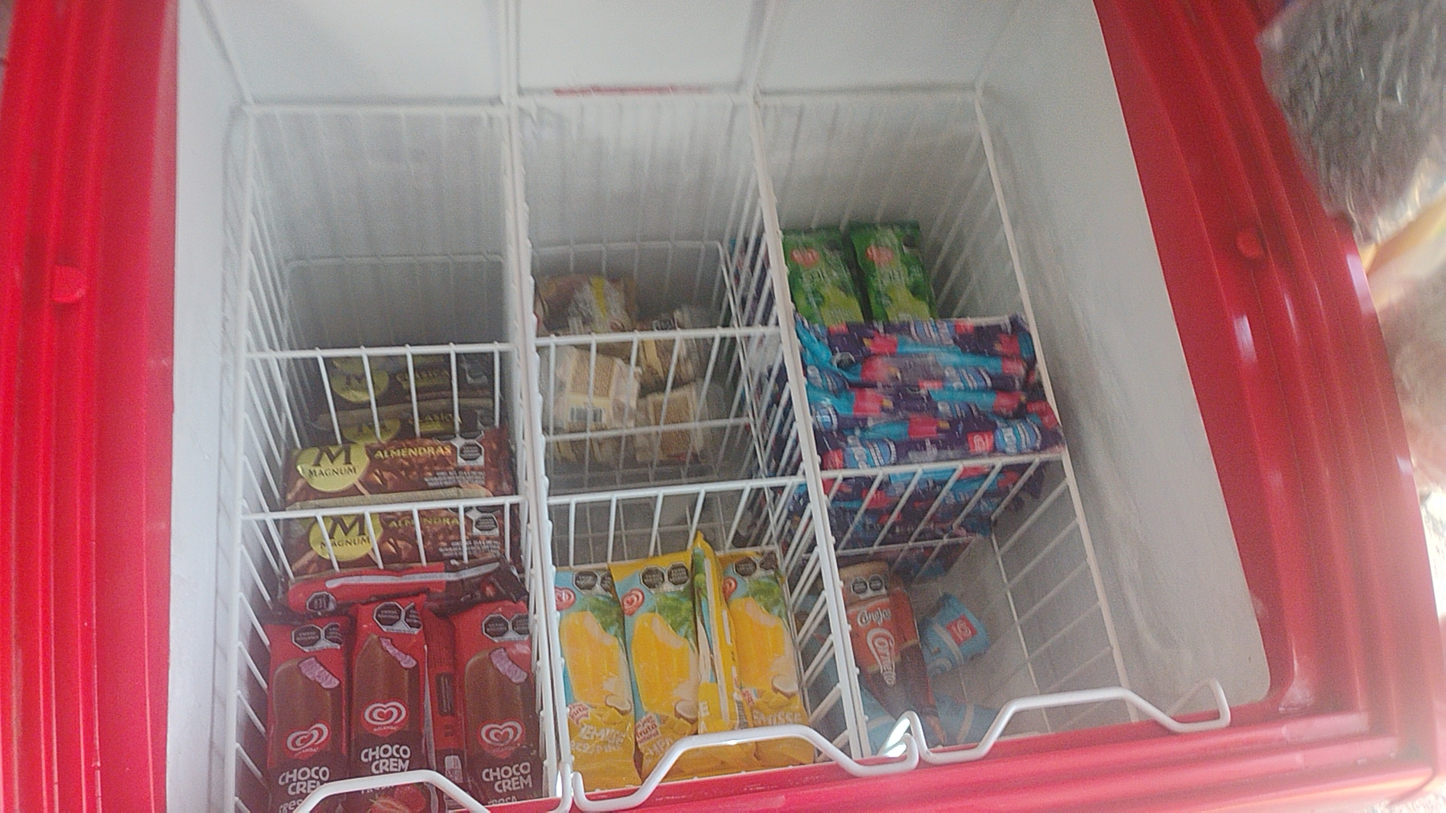rejilla: (971, 92, 1141, 723), (755, 96, 875, 757), (746, 96, 862, 759), (506, 96, 573, 789), (501, 108, 560, 795), (223, 111, 255, 813), (551, 475, 805, 505), (238, 494, 536, 519), (820, 451, 1065, 479), (531, 325, 787, 346), (237, 342, 524, 359), (752, 88, 985, 103), (247, 103, 500, 112), (520, 94, 744, 104)
